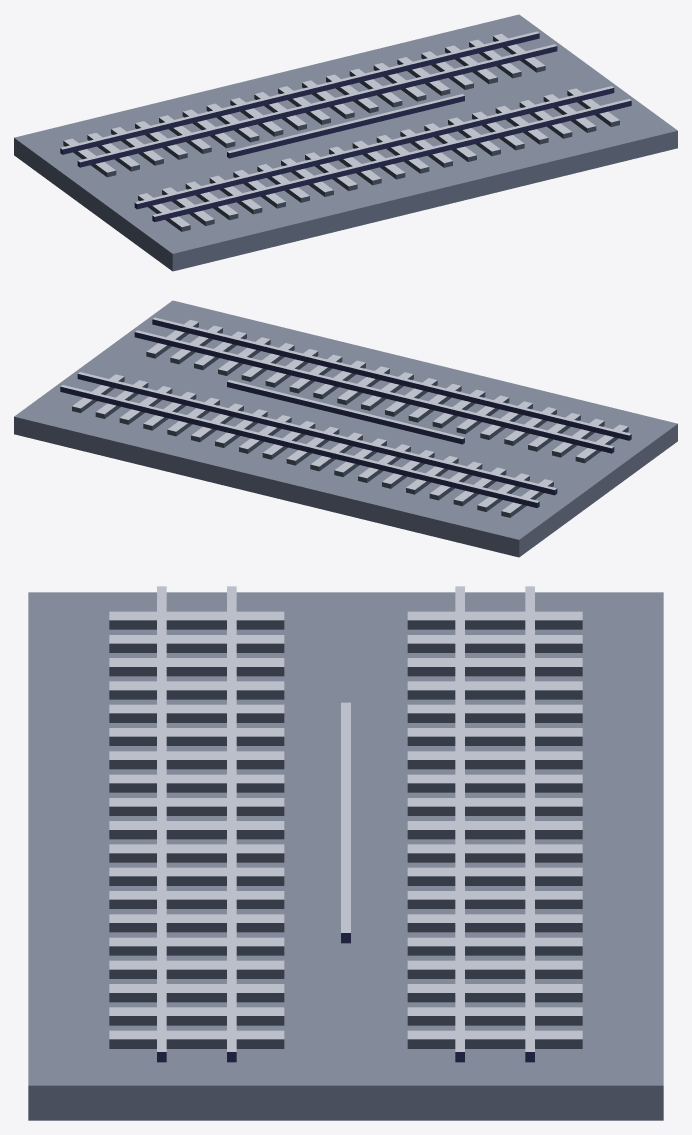
The model's file is track-crossover-switch.glb.
3 views of the same model, one above another, from view 1: azimuth 30°, elevation 25°; view 2: azimuth 150°, elevation 25°; view 3: azimuth 270°, elevation 25° (orthographic). The views are drawn at different scales.
Visible parts, largest first — view 1: track-crossover-switch_root; view 2: track-crossover-switch_root; view 3: track-crossover-switch_root.
Part boxes in pixels (box(x1,y1,x2,y2)): track-crossover-switch_root: box(14, 14, 677, 271); track-crossover-switch_root: box(14, 300, 677, 557); track-crossover-switch_root: box(28, 586, 663, 1120).
Size of the model in its own units: 18 by 0.96 by 9.8.
1 material, 1 textured.
